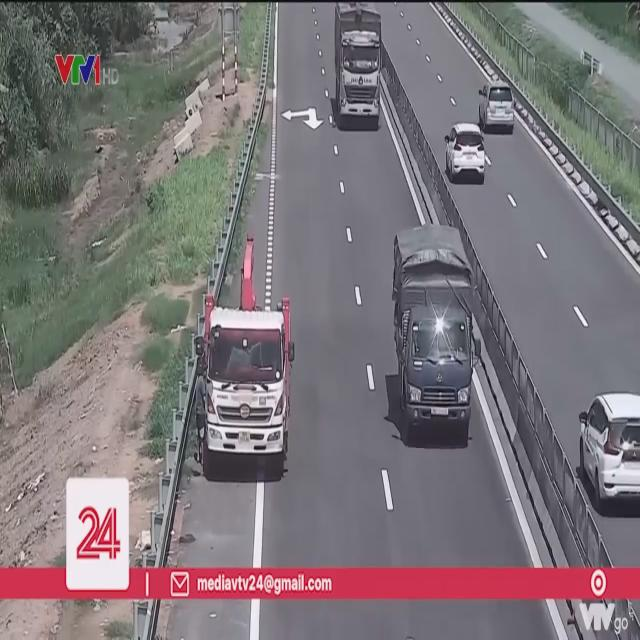car: (580, 394, 639, 515), (444, 124, 490, 182), (479, 86, 516, 138)
truck: (388, 227, 481, 444), (205, 297, 291, 470), (332, 3, 385, 129)
